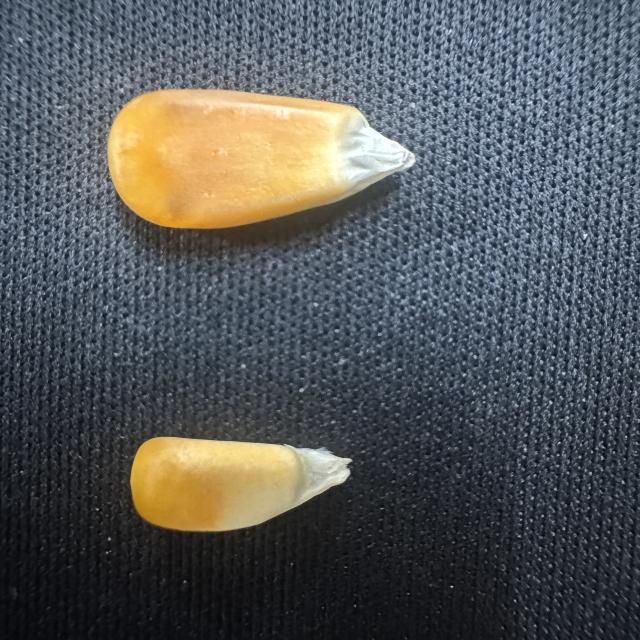Bad-Seed: (121, 429, 358, 535)
Good-Seed: (102, 84, 431, 238)
